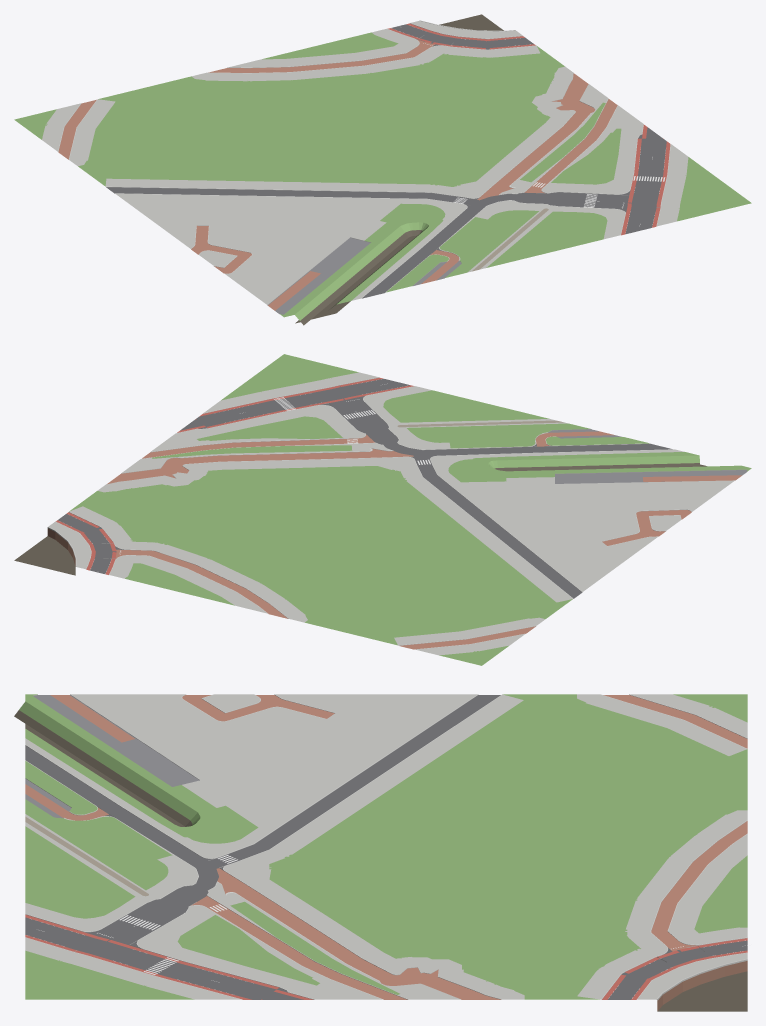
File: ground_6_11.glb
3 views of the same model, one above another, from view 1: azimuth 30°, elevation 25°; view 2: azimuth 150°, elevation 25°; view 3: azimuth 270°, elevation 25° (orthographic). The views are drawn at different scales.
Parts seen in each view (by area): view 1: ground_6_11; view 2: ground_6_11; view 3: ground_6_11.
Part boxes in pixels (x1=…): ground_6_11: x1=14, y1=14, x2=751, y2=325; ground_6_11: x1=14, y1=354, x2=751, y2=665; ground_6_11: x1=14, y1=694, x2=749, y2=1011.
Size of the model in its own units: 200 by 3.68 by 204.
